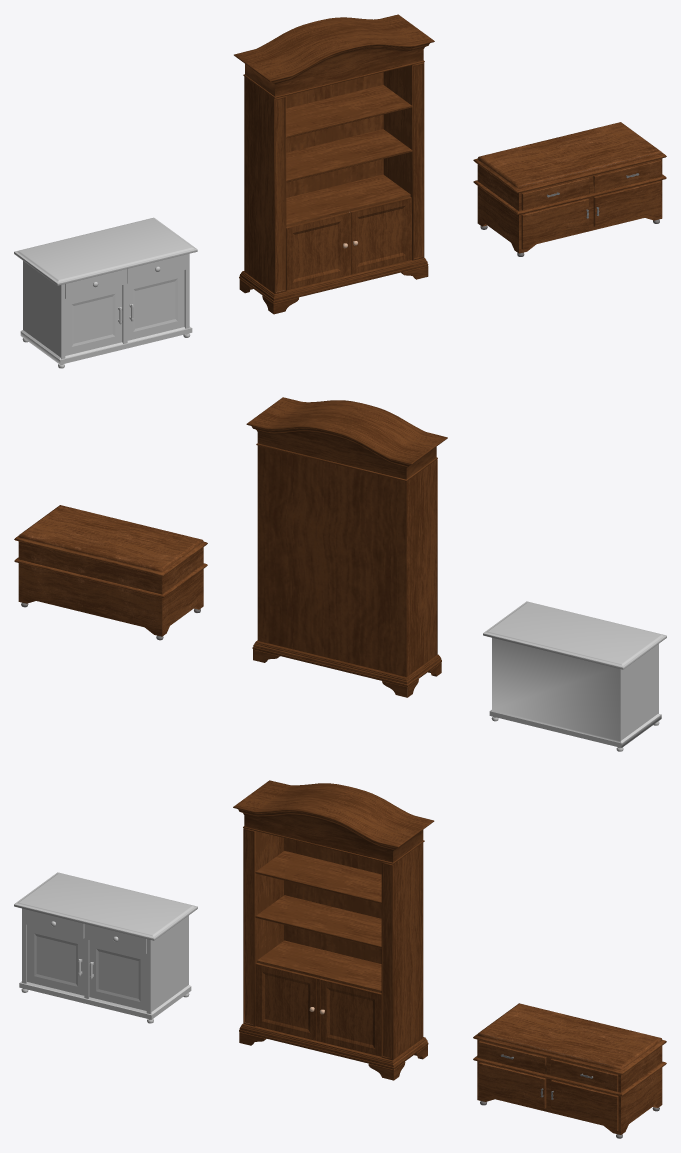
File: bookshelves.gltf
3 renders of one model, top to bottom at view 1: azimuth 30°, elevation 25°; view 2: azimuth 150°, elevation 25°; view 3: azimuth 330°, elevation 25°, orthographic.
Visible parts, largest first — view 1: BookShelf, SmallCabinet1, SmallCabinet2, LeftDoor_BookShelf, RightDoor_BookShelf; view 2: BookShelf, SmallCabinet1, SmallCabinet2; view 3: BookShelf, SmallCabinet1, SmallCabinet2, LeftDoor_BookShelf, RightDoor_BookShelf.
Boxes of the visible parts, x1,y1,x2,y2 form: BookShelf: [234, 14, 434, 314]; SmallCabinet1: [14, 217, 197, 368]; SmallCabinet2: [473, 122, 666, 256]; LeftDoor_BookShelf: [286, 212, 347, 290]; RightDoor_BookShelf: [350, 197, 411, 274]; BookShelf: [246, 397, 447, 697]; SmallCabinet1: [483, 601, 666, 751]; SmallCabinet2: [14, 505, 207, 640]; BookShelf: [233, 780, 434, 1080]; SmallCabinet1: [14, 872, 197, 1023]; SmallCabinet2: [473, 1003, 666, 1138]; LeftDoor_BookShelf: [255, 963, 317, 1040]; RightDoor_BookShelf: [320, 978, 381, 1056].
Size of the model in its own units: 8.5 by 3.32 by 1.1.
